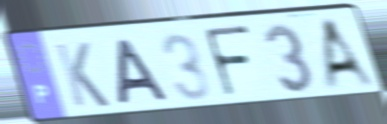3: (262, 20, 316, 96), (161, 32, 211, 102)
A: (320, 14, 382, 90), (113, 37, 173, 108)
F: (201, 23, 254, 100)
K: (52, 41, 113, 110)
